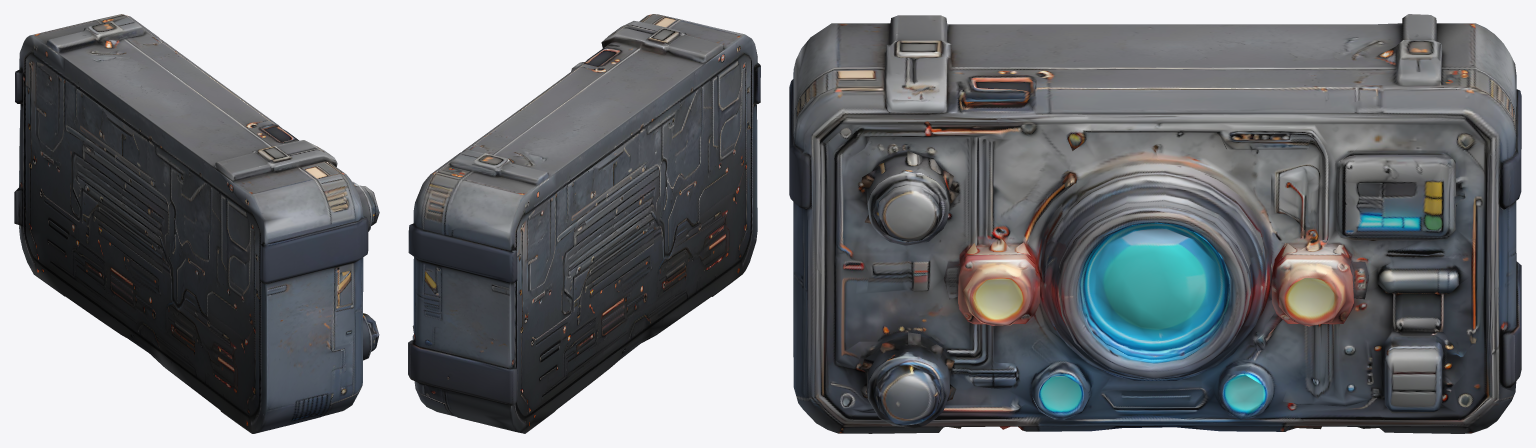
The model's file is button.obj.
3 views of the same model, side by side, from view 1: azimuth 30°, elevation 25°; view 2: azimuth 150°, elevation 25°; view 3: azimuth 270°, elevation 25° (orthographic). The views are drawn at different scales.
Visible parts, largest first — view 1: tripo_node_e2d99d41-62e3-4119-b6d1-ff8b76a177fc; view 2: tripo_node_e2d99d41-62e3-4119-b6d1-ff8b76a177fc; view 3: tripo_node_e2d99d41-62e3-4119-b6d1-ff8b76a177fc.
Part boxes in pixels (x1=…): tripo_node_e2d99d41-62e3-4119-b6d1-ff8b76a177fc: x1=14, y1=14, x2=379, y2=433; tripo_node_e2d99d41-62e3-4119-b6d1-ff8b76a177fc: x1=408, y1=14, x2=760, y2=433; tripo_node_e2d99d41-62e3-4119-b6d1-ff8b76a177fc: x1=789, y1=14, x2=1521, y2=433.
Size of the model in its own units: 0.3395 by 0.5461 by 0.9999.
1 material, 1 textured.
